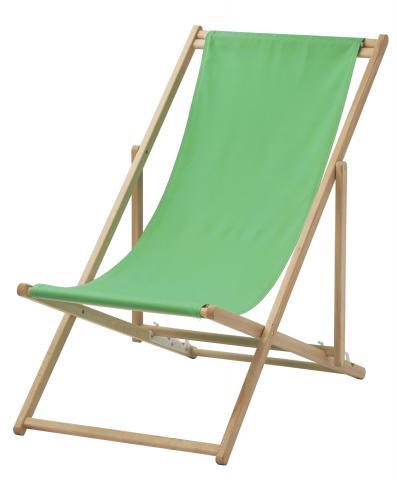chair: (10, 11, 388, 473)
